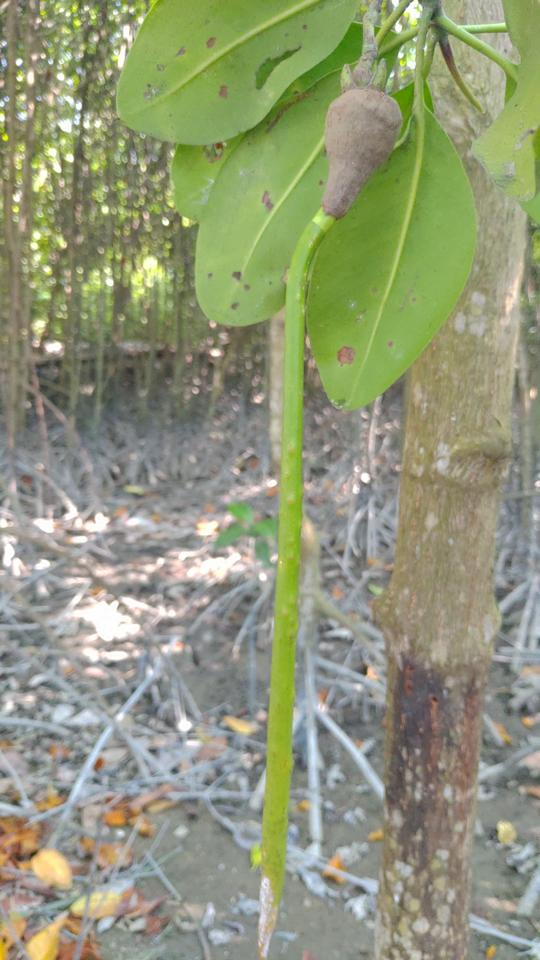setengah matang: (243, 58, 413, 948)
